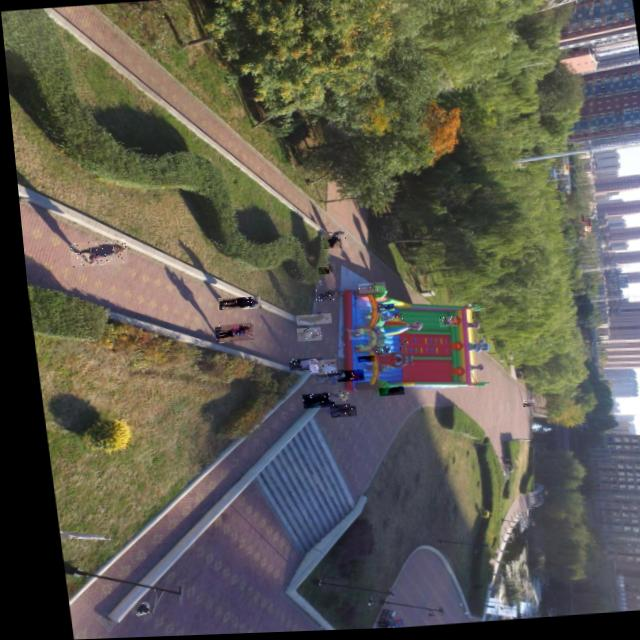Person: (62, 240, 121, 267), (206, 324, 245, 343), (211, 298, 253, 311), (293, 394, 325, 410), (280, 359, 315, 373), (300, 361, 328, 377), (288, 315, 324, 327), (305, 290, 335, 303), (289, 329, 314, 343), (327, 372, 355, 384), (351, 284, 379, 296), (320, 408, 347, 420), (305, 372, 336, 382), (318, 392, 342, 404), (322, 231, 341, 246), (362, 621, 389, 631), (369, 389, 395, 399), (316, 238, 335, 251), (313, 263, 329, 276), (431, 319, 448, 330), (340, 331, 356, 342), (366, 348, 382, 357), (320, 406, 340, 413), (349, 357, 366, 365), (370, 306, 387, 313), (305, 376, 319, 384), (384, 315, 396, 324), (387, 344, 401, 351), (311, 269, 322, 277), (512, 406, 522, 411), (513, 403, 524, 406)
